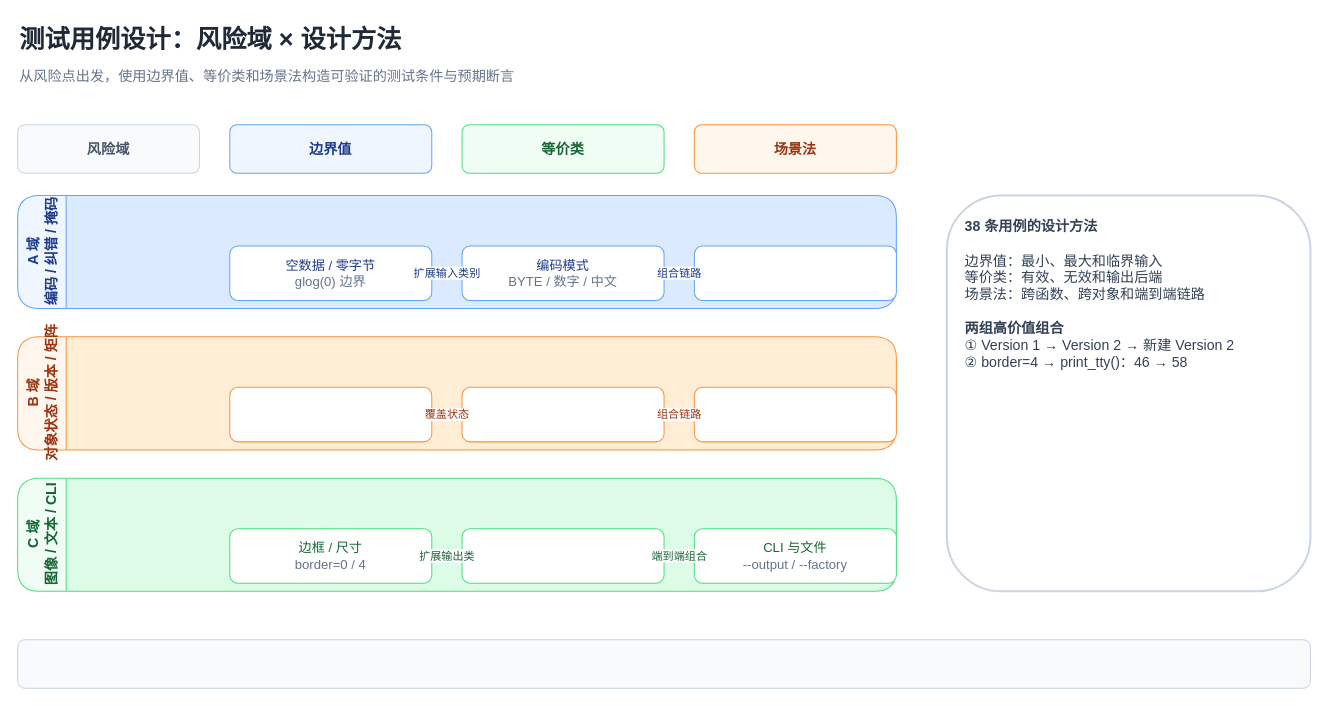
Image size: 1329x706. Some labels were removed from this diagram. The shapes that lost their labels are listed below. From the top down, each one's centre as x and y in pixels, then its label:
[794,272]: 编码到纠错 码字与多项式链路
[330,414]: 版本边界 Version 1 / 2
[562,414]: 对象状态 新建 / 清空 / 复用
[794,414]: 版本切换 缓存与矩阵一致性
[562,555]: 输出类型 PNG / SVG / ASCII
[663,663]: 输入条件 → 测试方法 → 预期断言
